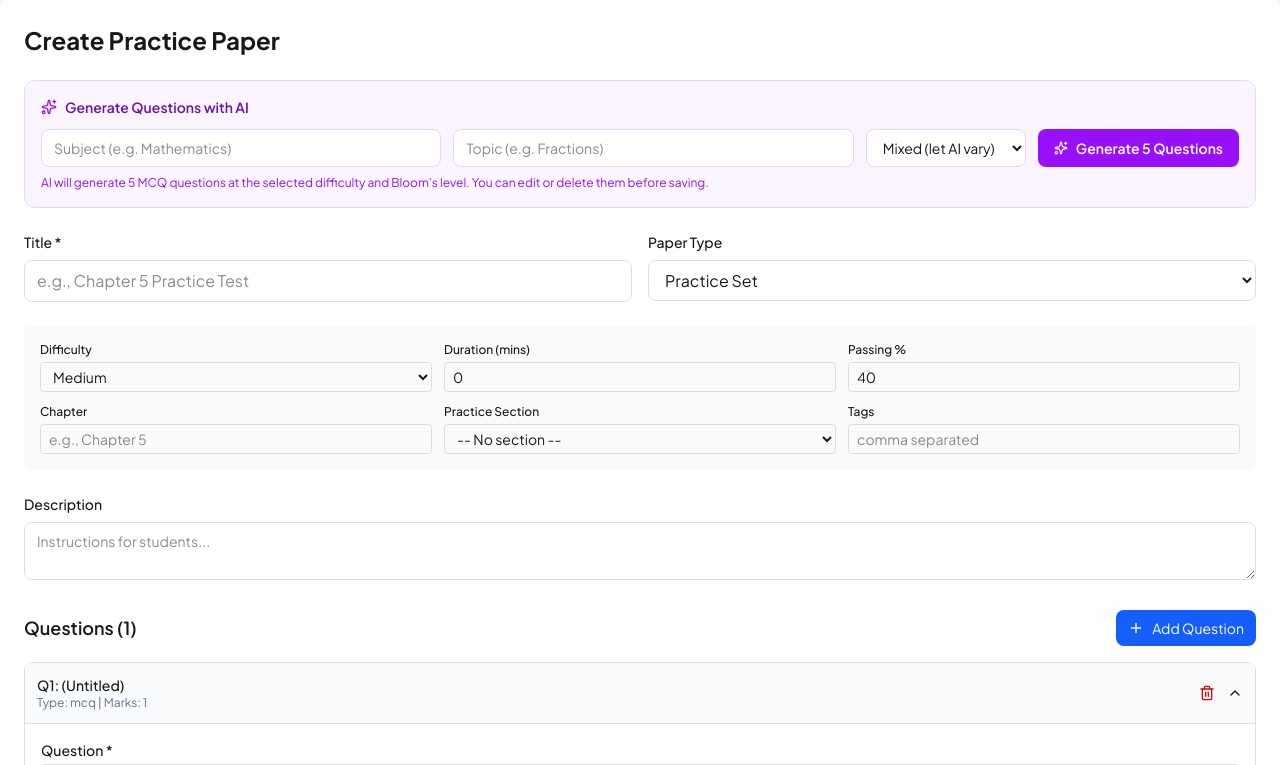
Test case: PracticePaperBuilder — AI question generator Bloom level › defaults to "Mixed" and sends the chosen Bloom level with the generation request
Expected: the dropdown titled "Bloom's Taxonomy level" shows "Mixed (let AI vary)", [866,129,1026,167]
Type "Mathematics" into the field with placeholder "Subject (e.g. Mathematics)".
click(241, 148); type("Mathematics")  # box [41,129,441,167]
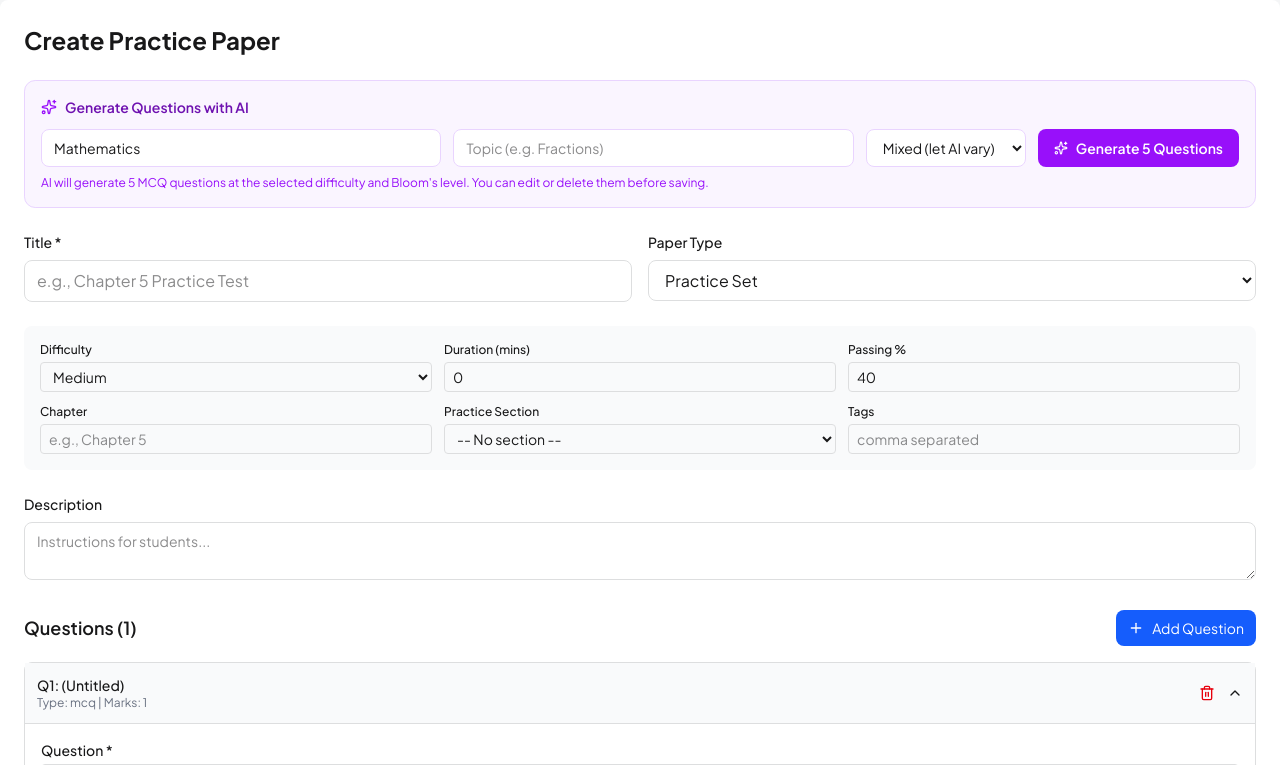
Type "Induction" into the field with placeholder "Topic (e.g. Fractions)".
click(654, 148); type("Induction")  # box [453,129,854,167]
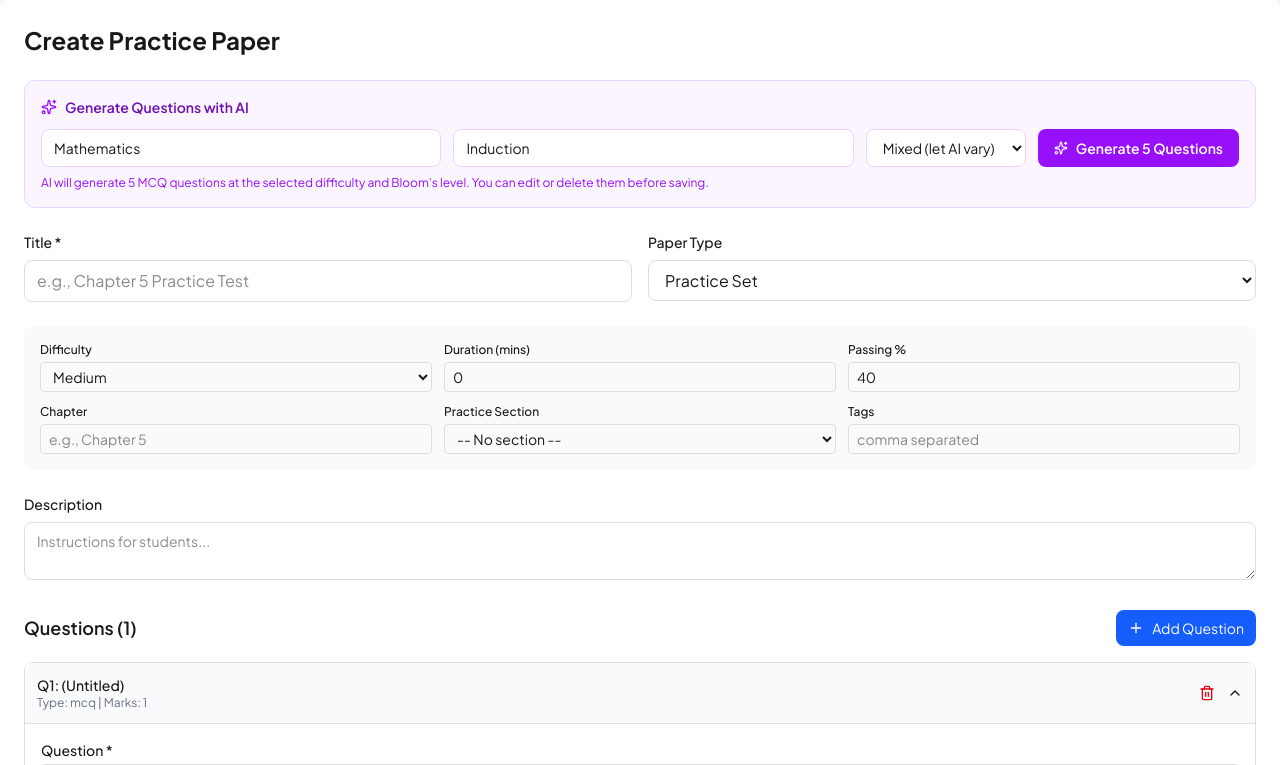
Select "Analyse" in the dropdown titled "Bloom's Taxonomy level" at point(946, 148), box [866,129,1026,167]
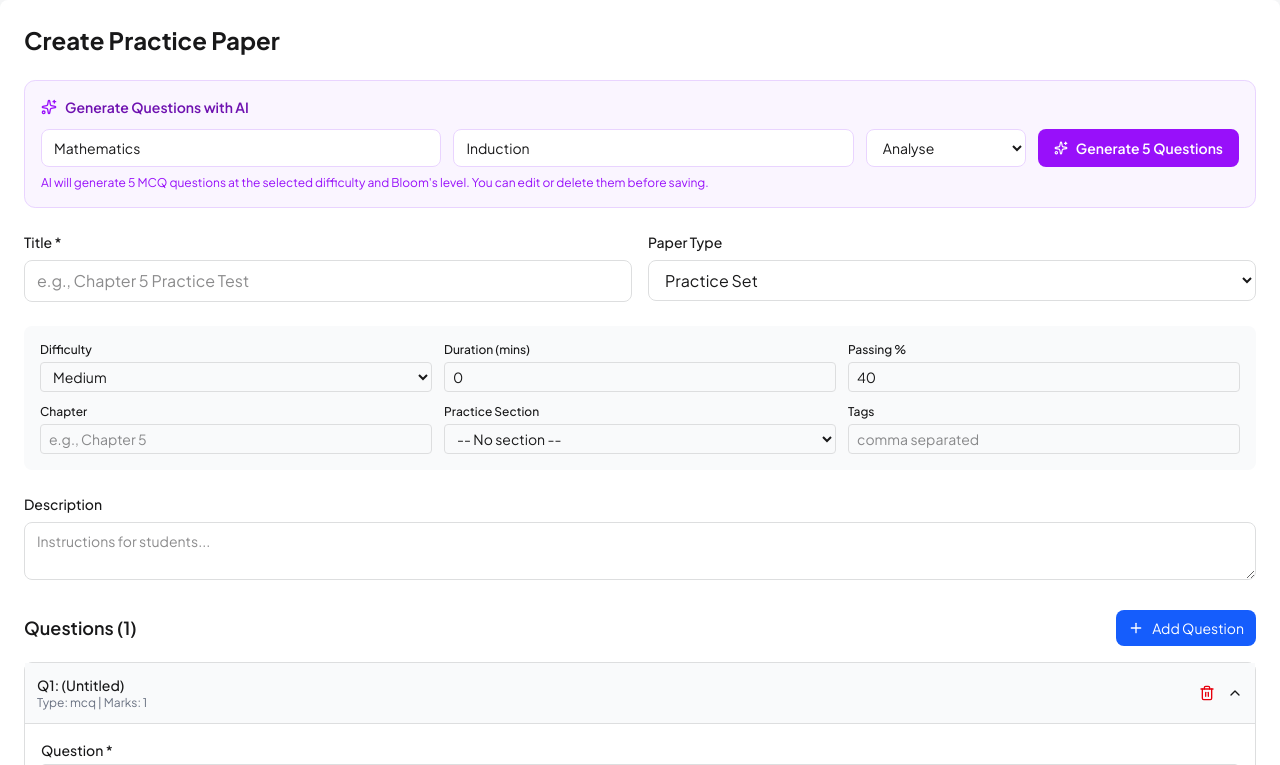
Click the button "Generate 5 Questions".
click(1138, 148)  # box [1038,129,1239,167]
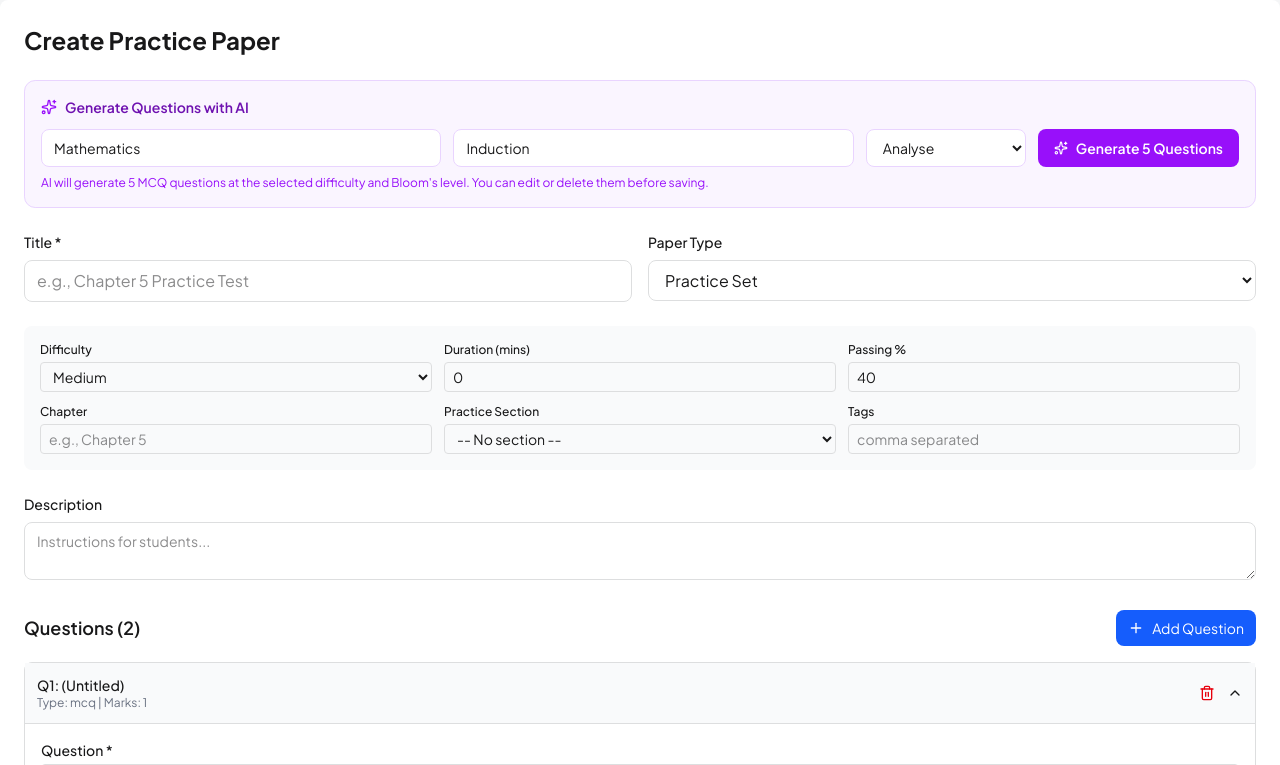
Expected: the heading "Questions (2)" is shown, [24,614,140,642]
